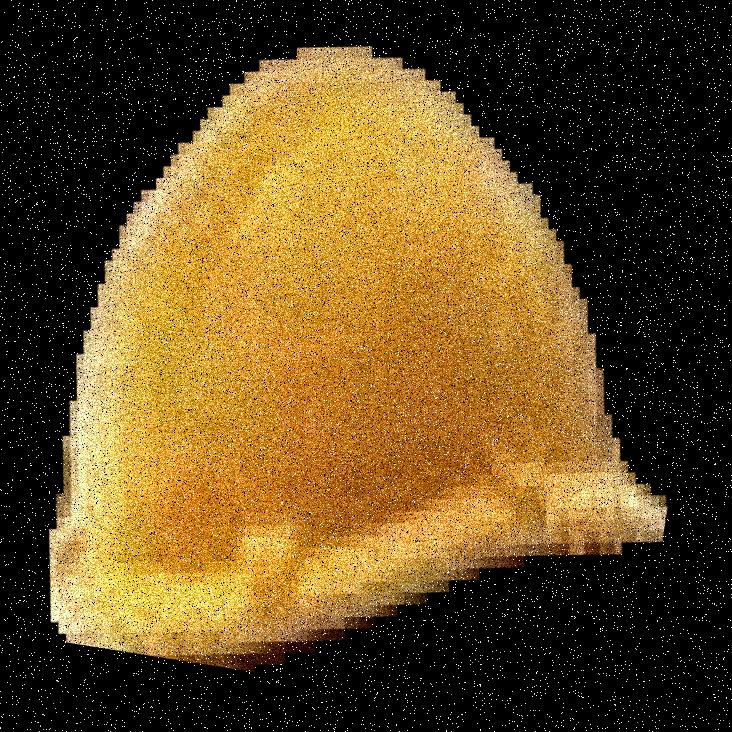Capacete: (136, 0, 548, 731)
